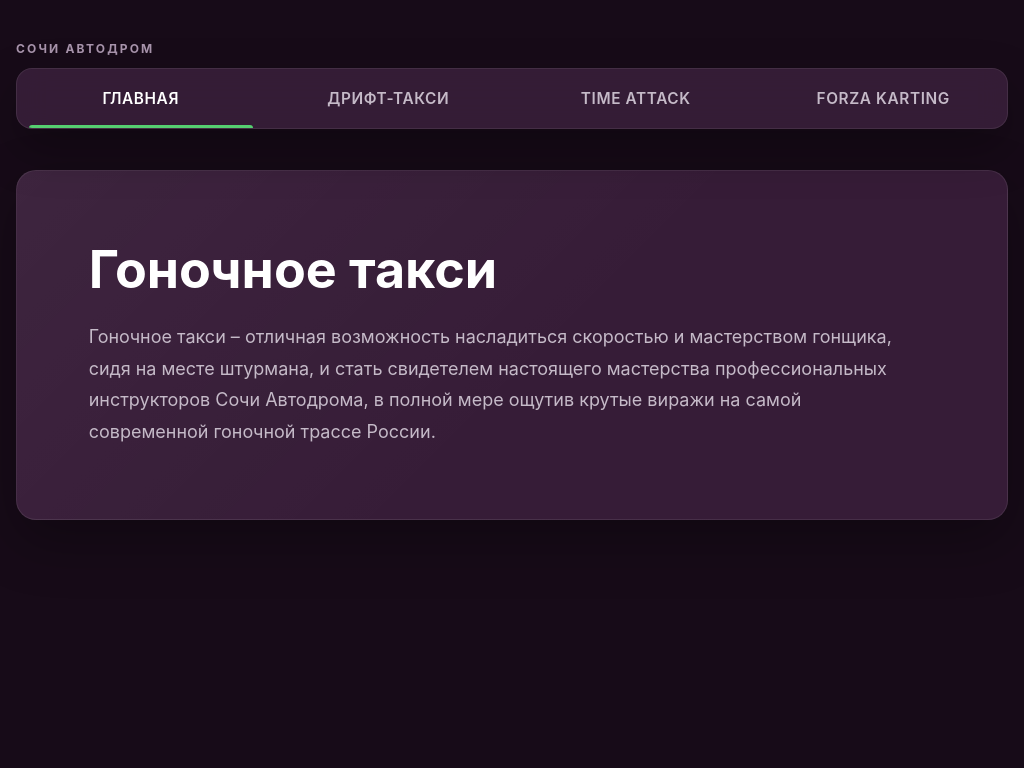
Test: App › navigates without reloading and updates the active menu item
Click the link "Time Attack". click: (636,98)
box: [581,89,691,108]
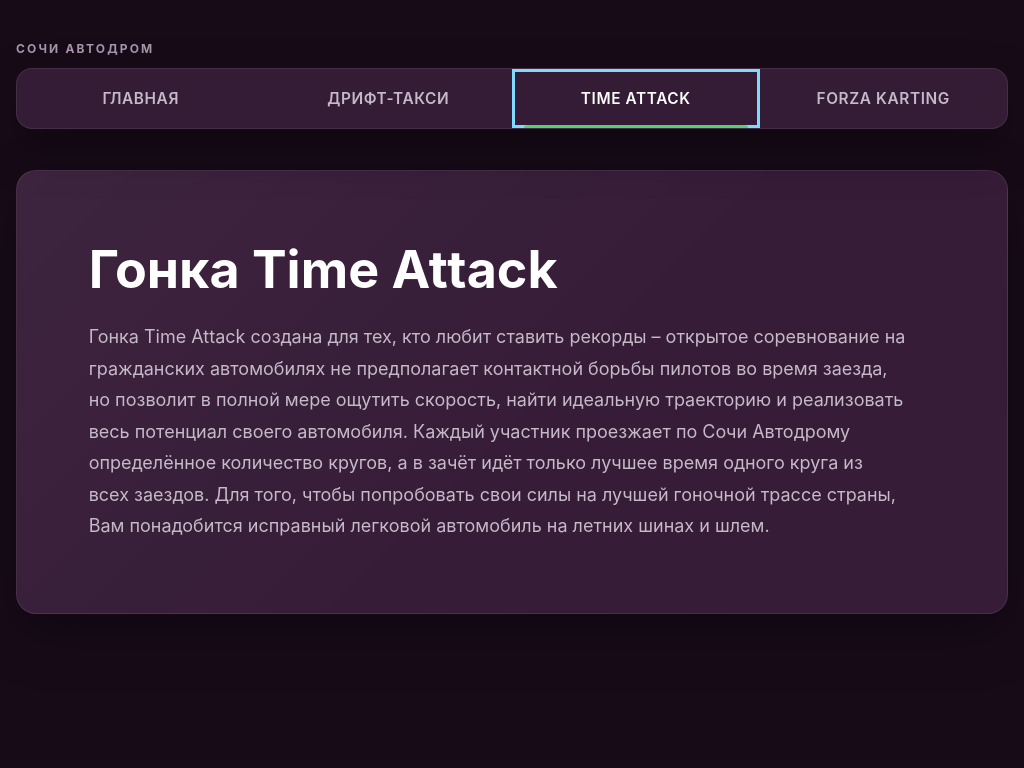
Result: the heading "Гонка Time Attack" is shown at [89,238,558,301]
